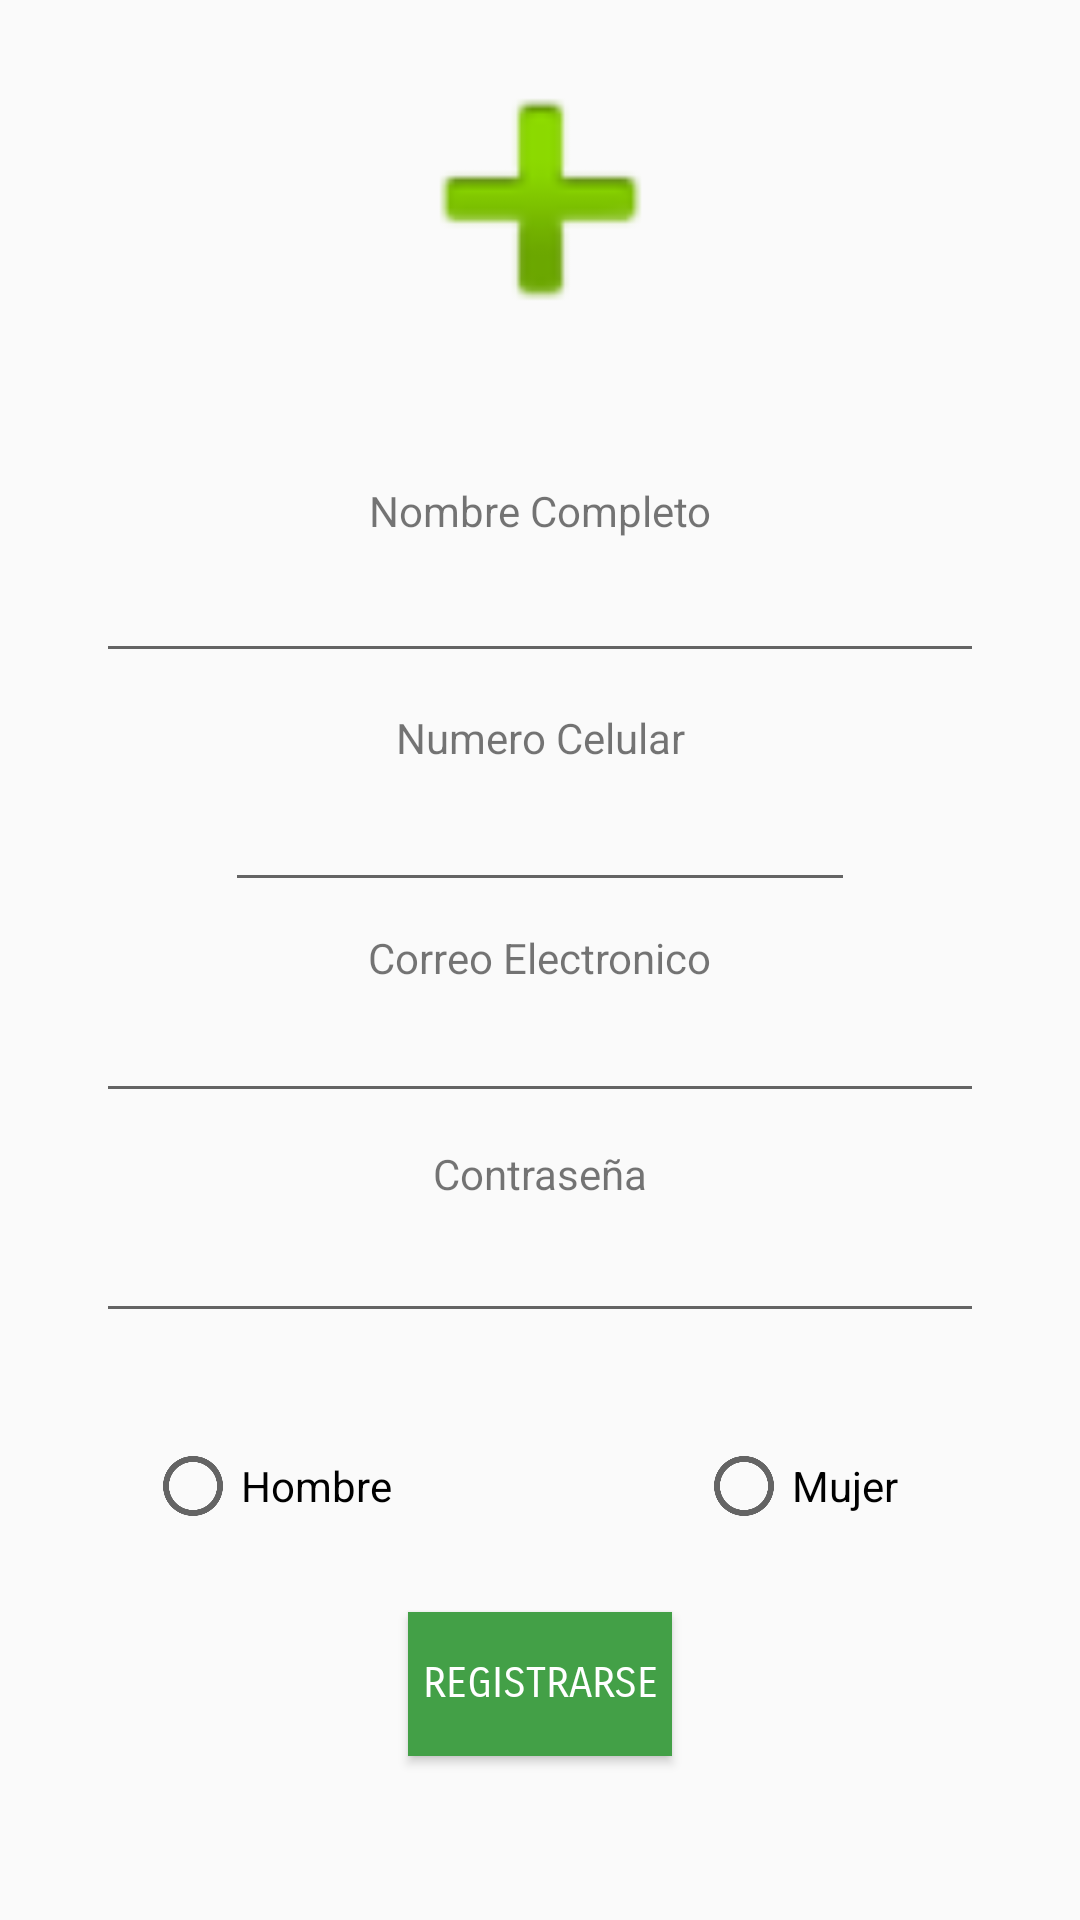

Where icons sit on this 1080×1920 app screen, as (left=x1, top=y1, right=x2, bottom=y2):
add: (left=440, top=100, right=641, bottom=299)
